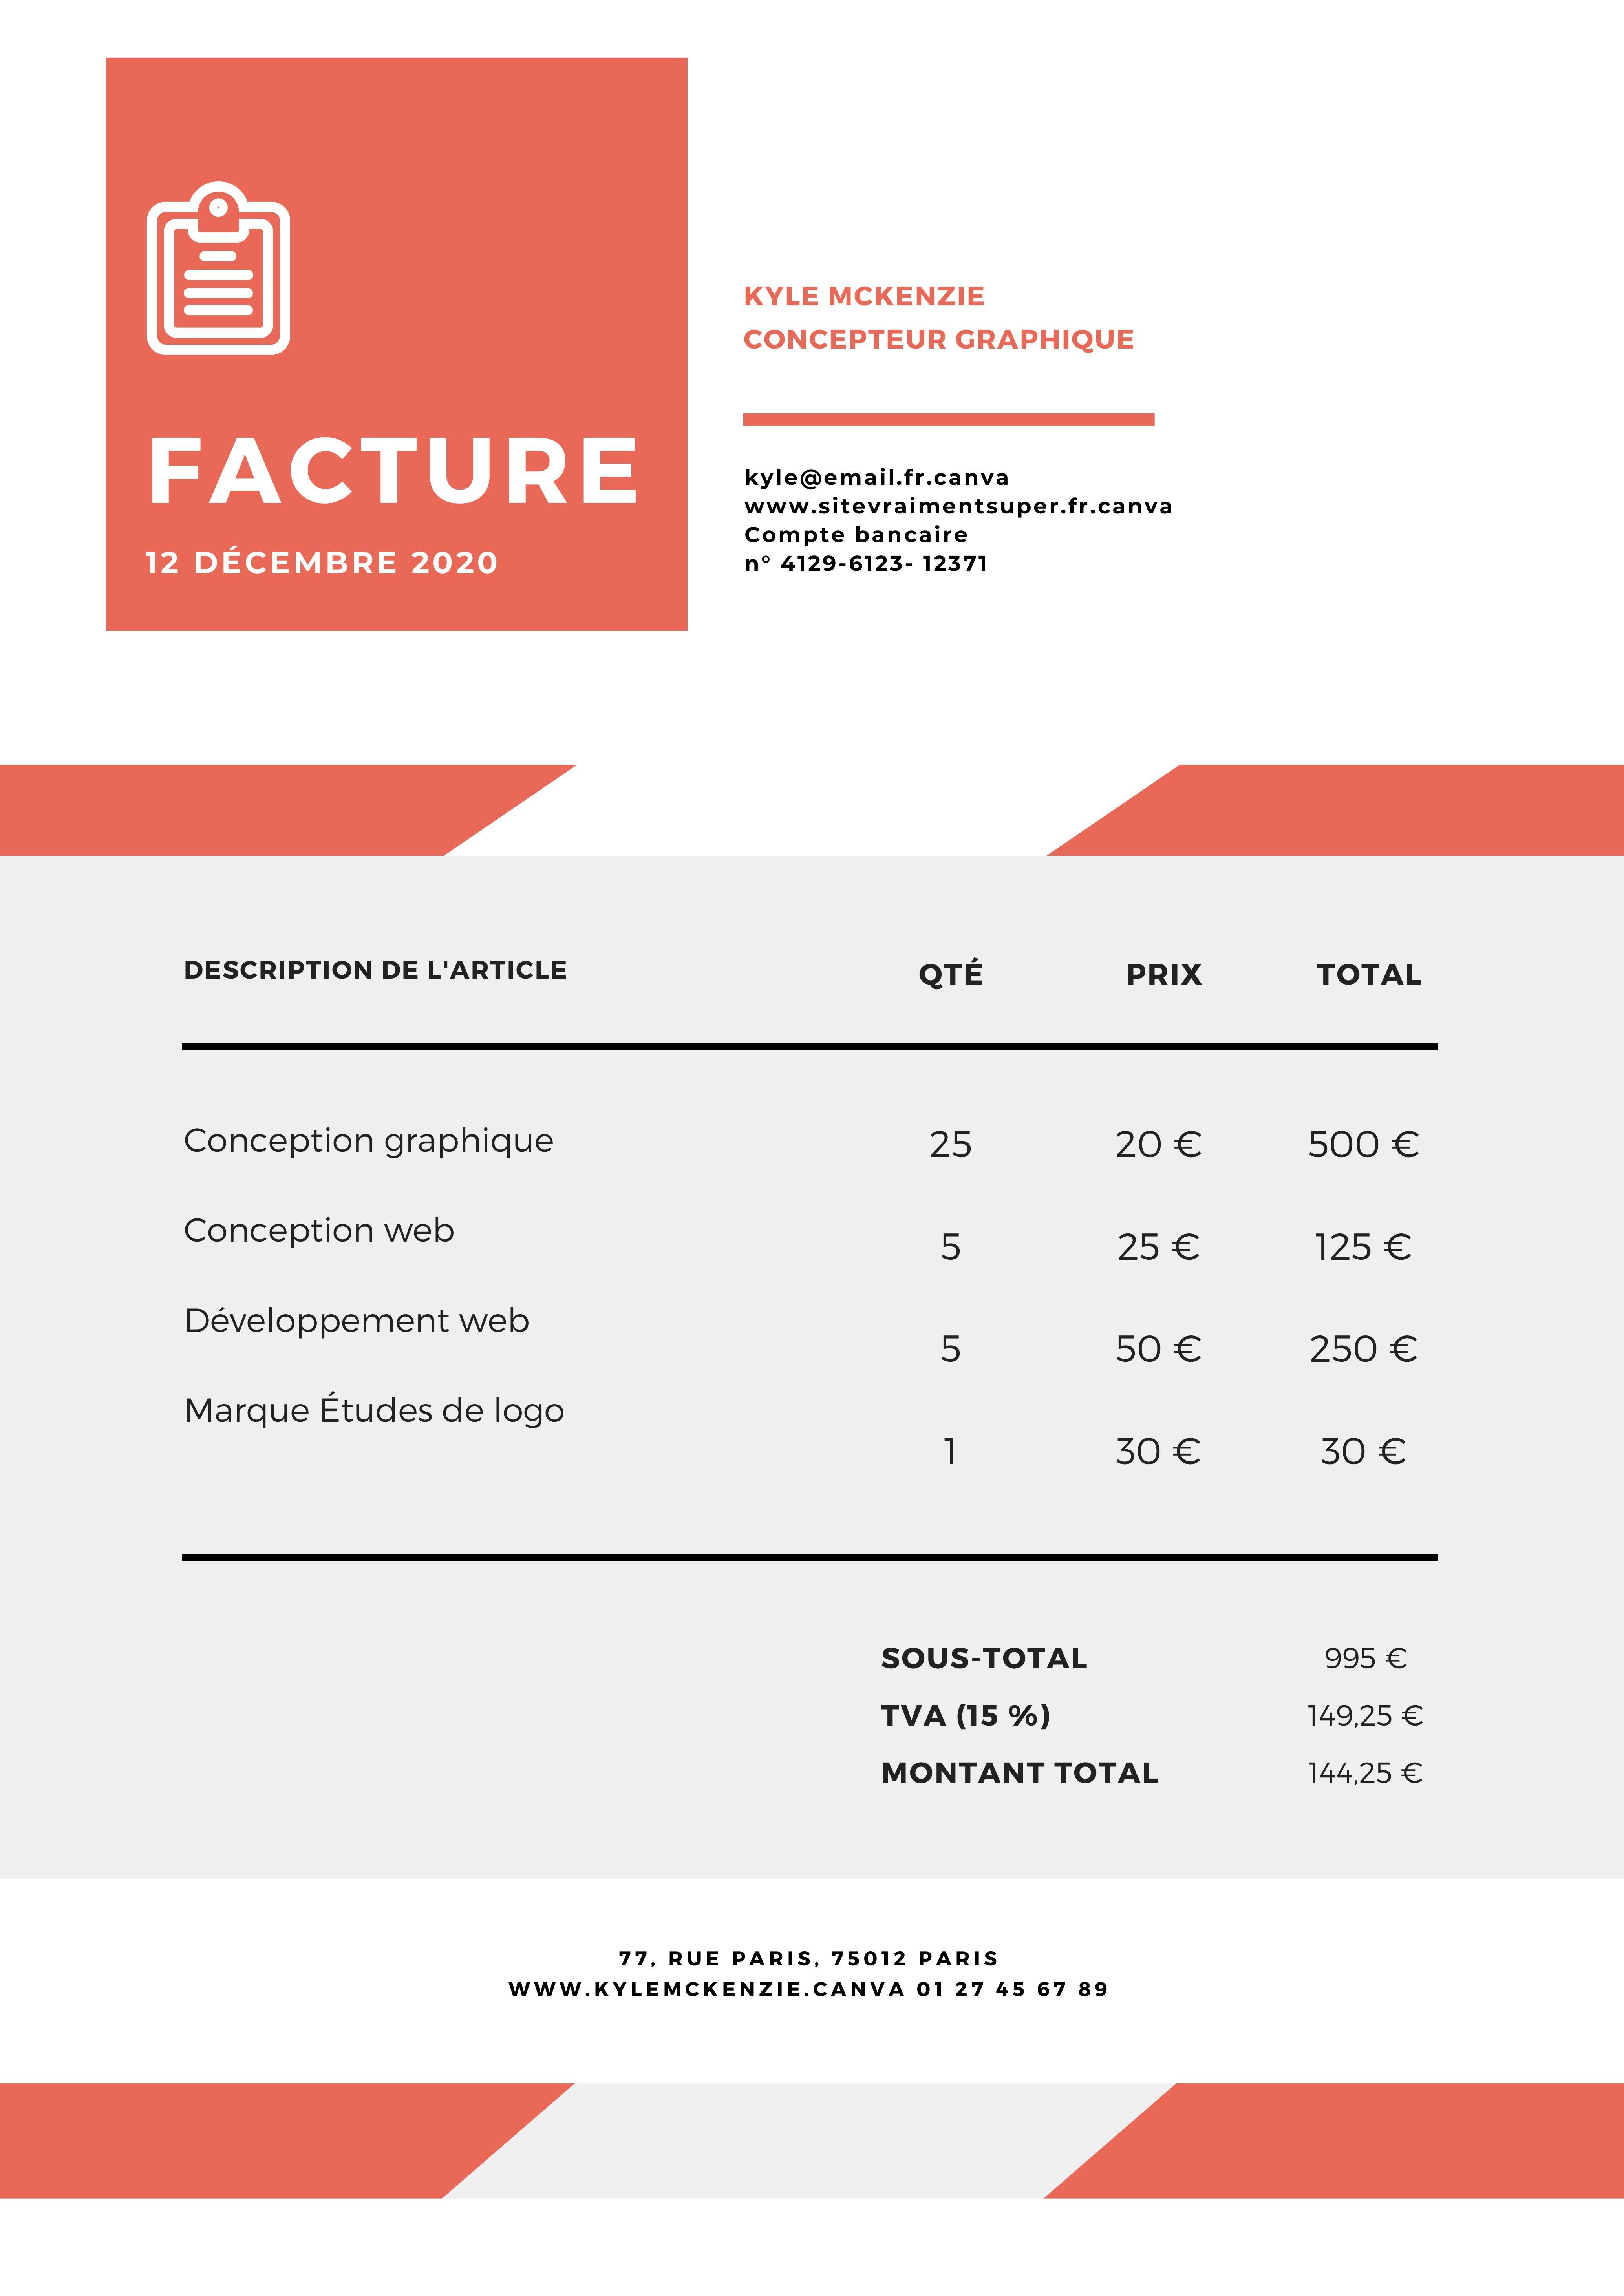ROI: (171, 944, 1456, 1497), (857, 1615, 1447, 1798), (731, 457, 1203, 588), (739, 278, 1148, 370)
